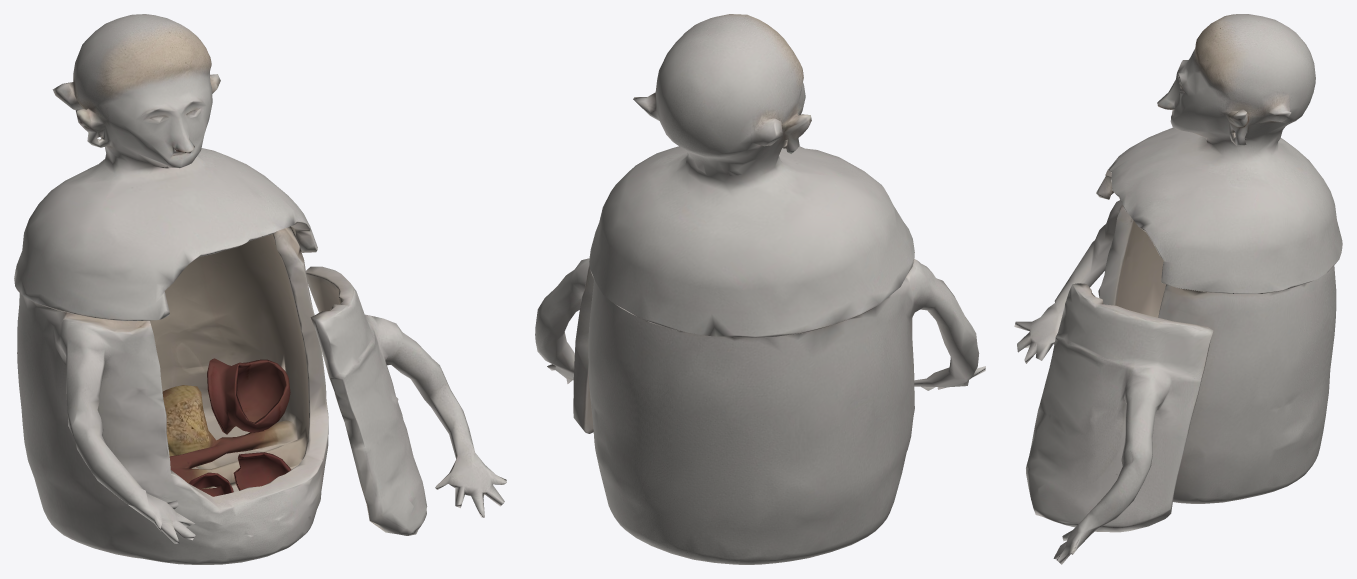
File: Maitum-10k.glb
The picture shows the model from 3 angles, left to right: view 1: azimuth 30°, elevation 25°; view 2: azimuth 150°, elevation 25°; view 3: azimuth 270°, elevation 25°; orthographic projection. The views are drawn at different scales.
Parts seen in each view (by area): view 1: tripo_node_d94f2988-2841-41df-9f6b-987ffc9e69e7; view 2: tripo_node_d94f2988-2841-41df-9f6b-987ffc9e69e7; view 3: tripo_node_d94f2988-2841-41df-9f6b-987ffc9e69e7.
Part boxes in pixels (bbox=[...]): tripo_node_d94f2988-2841-41df-9f6b-987ffc9e69e7: bbox=[14, 14, 506, 564]; tripo_node_d94f2988-2841-41df-9f6b-987ffc9e69e7: bbox=[535, 14, 985, 564]; tripo_node_d94f2988-2841-41df-9f6b-987ffc9e69e7: bbox=[1014, 14, 1342, 564].
Bounding box in the file's own units: 0.898 × 0.9803 × 0.6685.
Materials: 1 (1 with a texture image).
